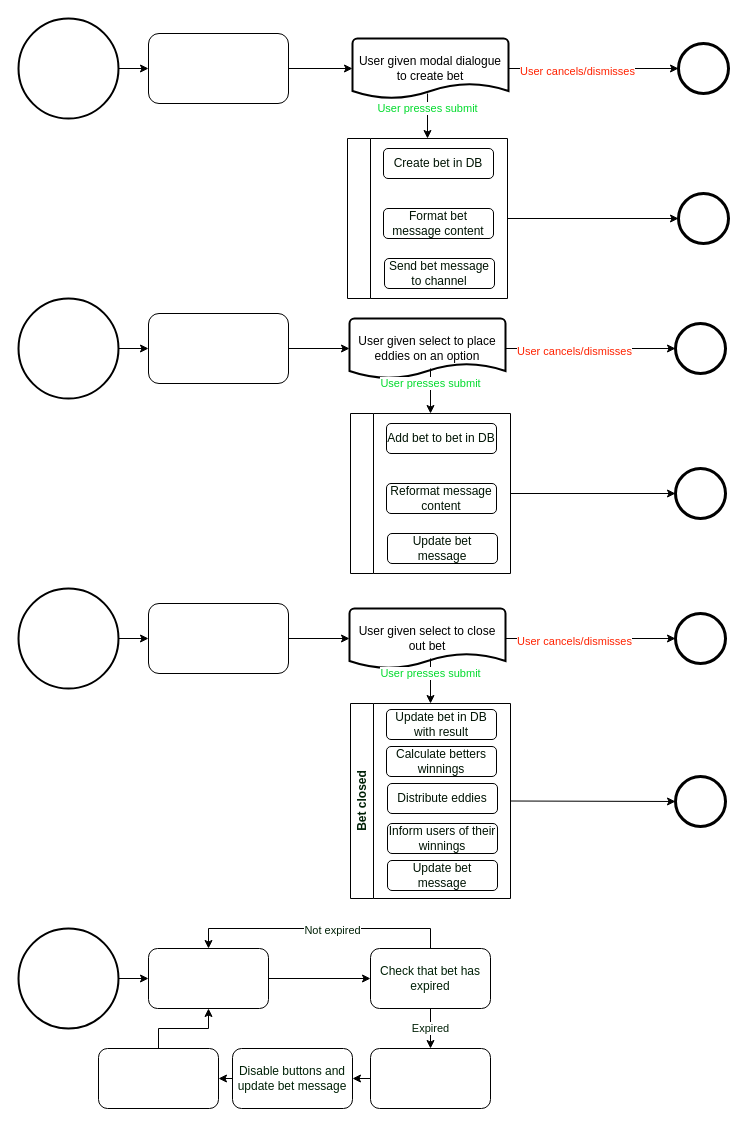
Image size: 746x1126. Some labels were removed from this diagram. Each missing label, with the box of its shape:
Bet Created: (346, 138, 508, 298)
Bet placed: (350, 412, 510, 574)
BetCloser Task One minute loop: (148, 948, 268, 1008)
Inform bet creator it's expired: (98, 1048, 218, 1108)
Set bet as expired: (370, 1048, 490, 1108)
User invokes /create: (148, 32, 288, 104)
User presses `Close` or uses `/close`: (148, 602, 288, 674)
User presses `Place` or uses `/place`: (148, 312, 288, 384)
